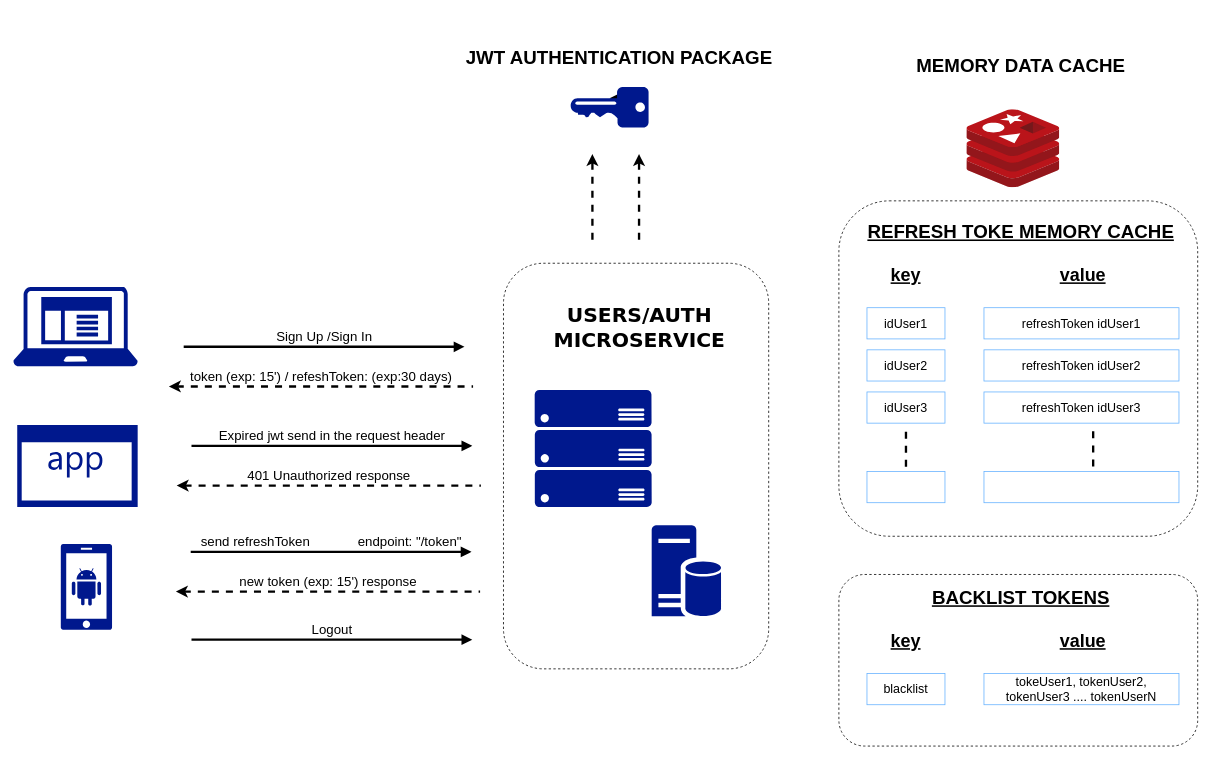
The diagram is 1211 pixels wide and 760 high, and some of its shapes have lost their labels. Each missing label, with the centre of its shape:
"idUserN" belongs at point (905, 487).
"refreshToken idUserN" belongs at point (1081, 487).
